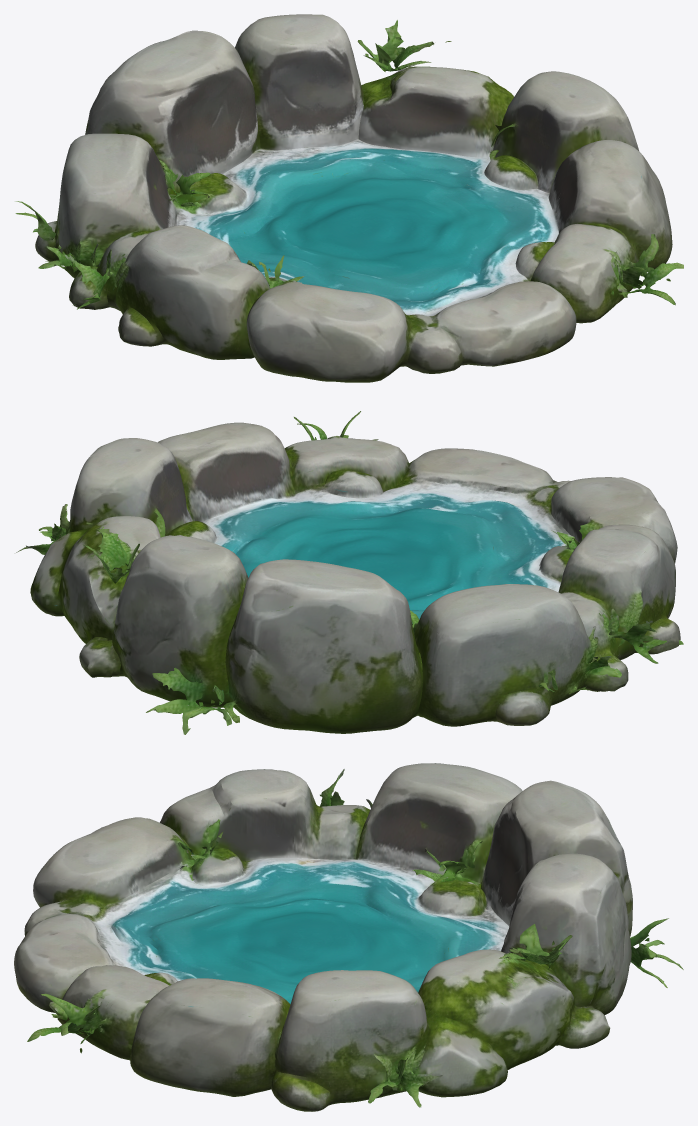
The model's file is veilfall_plunge_rocks.glb.
The picture shows the model from 3 angles, top to bottom: view 1: azimuth 30°, elevation 25°; view 2: azimuth 150°, elevation 25°; view 3: azimuth 270°, elevation 25°; orthographic projection. The views are drawn at different scales.
Visible parts, largest first — view 1: Mesh_0; view 2: Mesh_0; view 3: Mesh_0.
Part boxes in pixels (x1=…): Mesh_0: x1=15, y1=14, x2=683, y2=382; Mesh_0: x1=16, y1=411, x2=683, y2=734; Mesh_0: x1=14, y1=763, x2=683, y2=1111.
Size of the model in its own units: 1.89 by 0.4119 by 1.82.
1 material, 1 textured.
